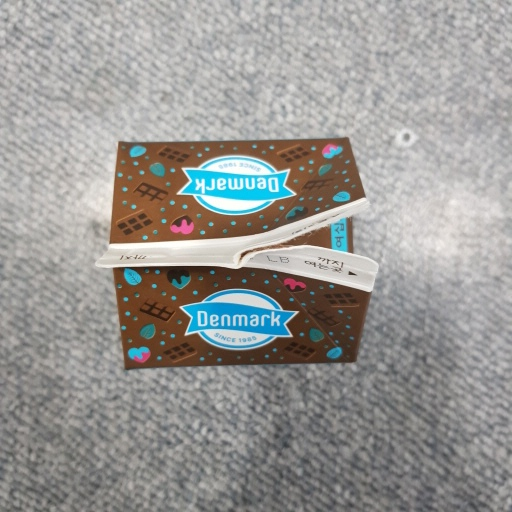Paper_0: (95, 131, 402, 387)
